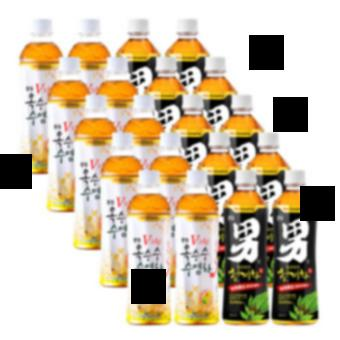heotgaecha: (272, 170, 322, 325), (223, 169, 271, 328)
oksususuyeomcha: (174, 168, 219, 327), (74, 95, 119, 251), (126, 170, 170, 327), (19, 15, 63, 170), (100, 131, 142, 286), (50, 51, 89, 213)
